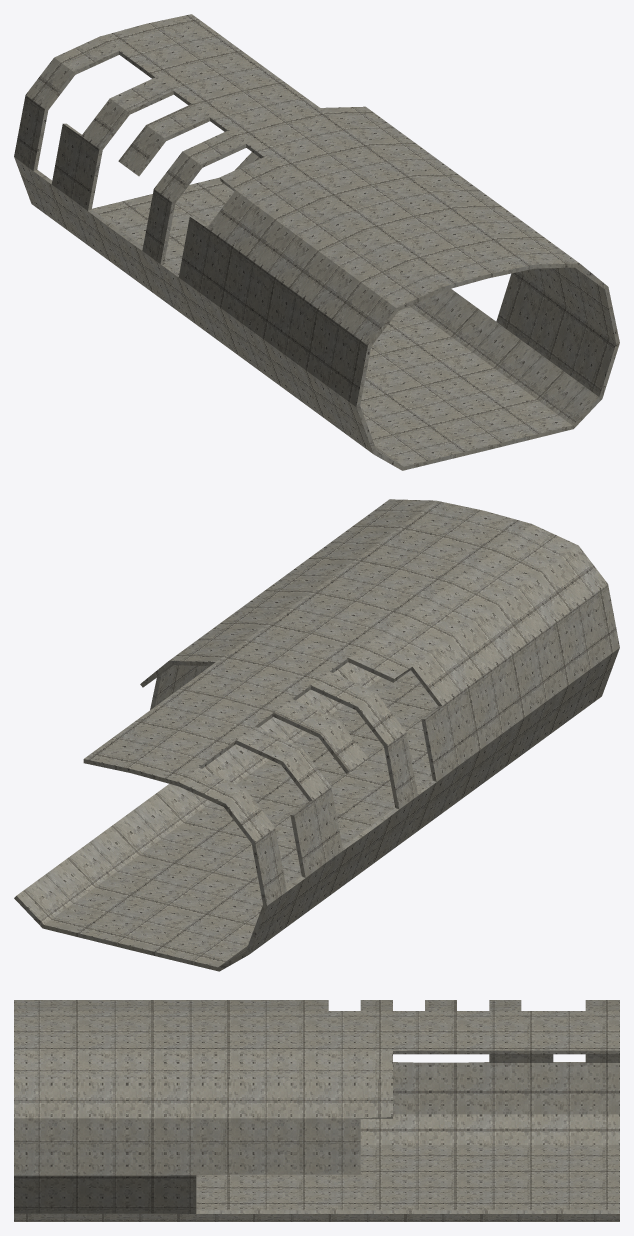
Rendered from man.obj.
3 renders of one model, top to bottom at view 1: azimuth 30°, elevation 25°; view 2: azimuth 150°, elevation 25°; view 3: azimuth 270°, elevation 25°, orthographic. The views are drawn at different scales.
Parts seen in each view (by area): view 1: Plane; view 2: Plane; view 3: Plane.
Boxes of the visible parts, box(x1,y1,x2,y2) form: Plane: box(14, 14, 619, 470); Plane: box(14, 499, 619, 971); Plane: box(14, 1000, 619, 1221).
Size of the model in its own units: 8.19 by 5.22 by 18.42.
